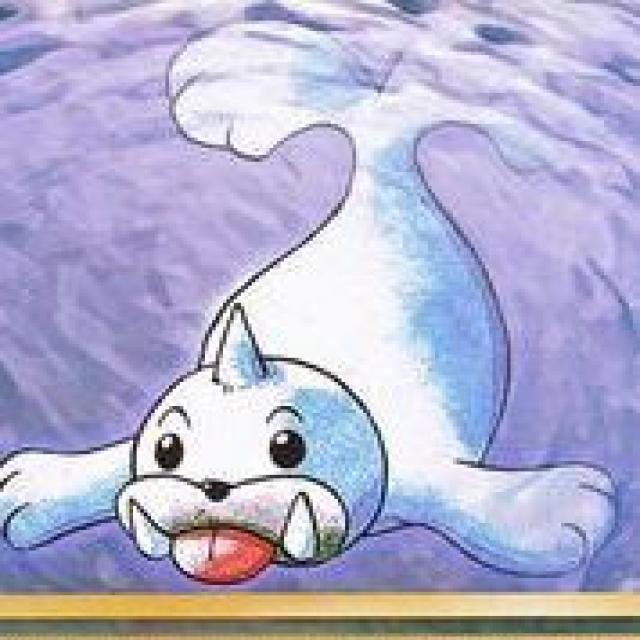Seel: (2, 23, 527, 585)
